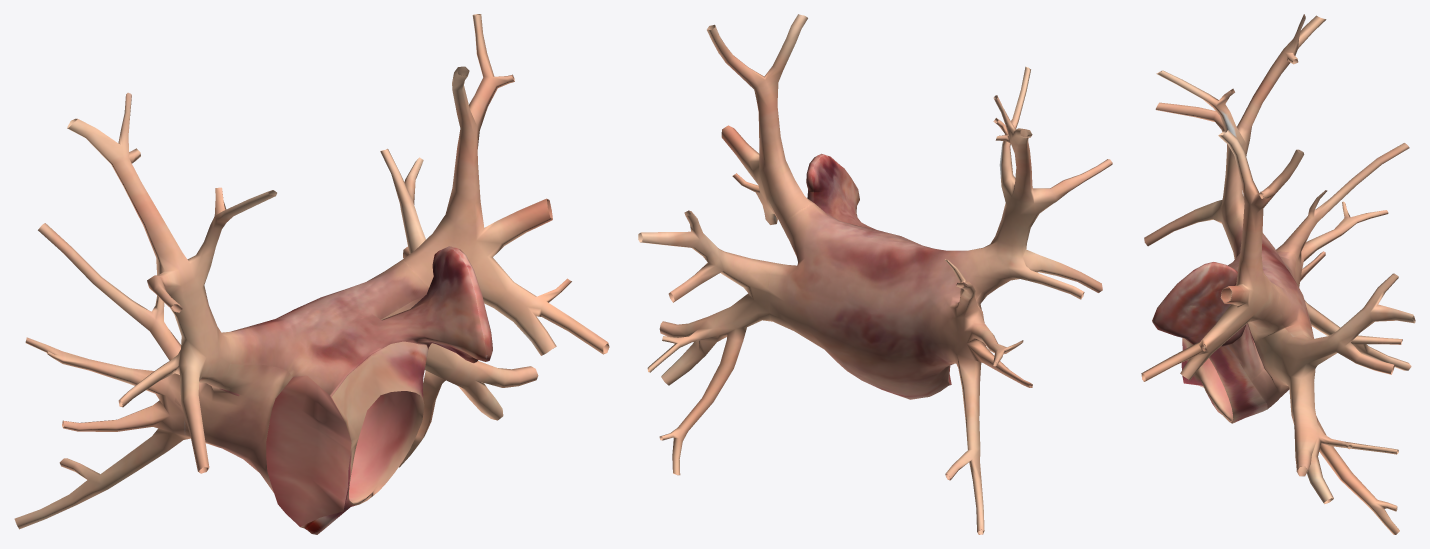
The model's file is 3.2 Arteries.glb.
3 renders of one model, left to right at view 1: azimuth 30°, elevation 25°; view 2: azimuth 150°, elevation 25°; view 3: azimuth 270°, elevation 25°, orthographic. The views are drawn at different scales.
Visible parts, largest first — view 1: L_Atrium.001; view 2: L_Atrium.001; view 3: L_Atrium.001.
Boxes of the visible parts, <box> form: L_Atrium.001: <box>14,14,609,534</box>; L_Atrium.001: <box>638,14,1112,534</box>; L_Atrium.001: <box>1141,14,1415,534</box>.
Bounding box in the file's own units: 0.1295 × 0.1329 × 0.0838.
Materials: 1 (1 with a texture image).
